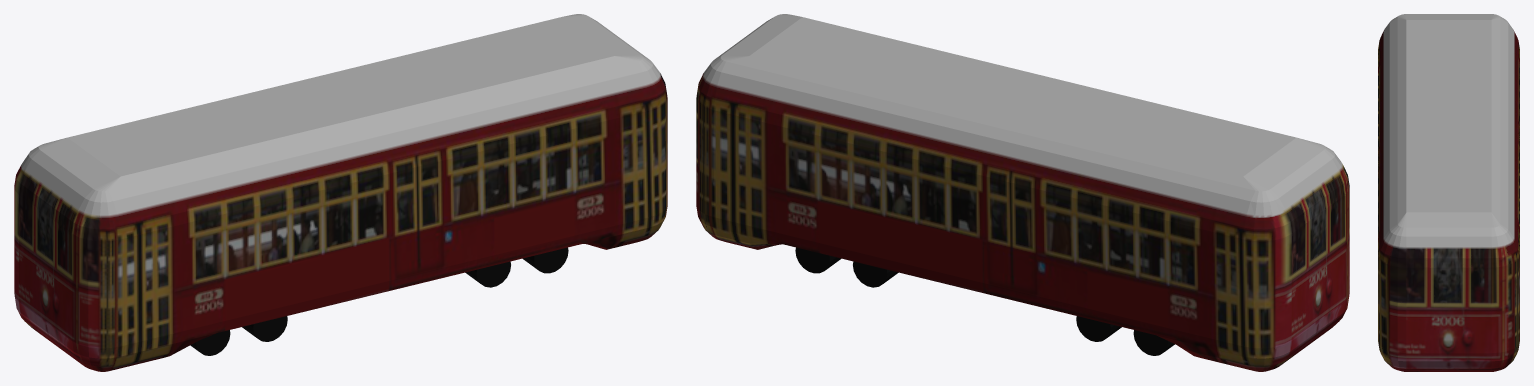
File: railcar_(part_of_a_train)_1_v000.glb
3 renders of one model, left to right at view 1: azimuth 30°, elevation 25°; view 2: azimuth 150°, elevation 25°; view 3: azimuth 270°, elevation 25°, orthographic. The views are drawn at different scales.
Parts seen in each view (by area): view 1: world; view 2: world; view 3: world.
Boxes of the visible parts, <box> form: world: <box>14,14,667,371</box>; world: <box>696,14,1349,371</box>; world: <box>1378,14,1519,371</box>.
Size of the model in its own units: 76.85 by 24.71 by 20.
Materials: 1 (1 with a texture image).
